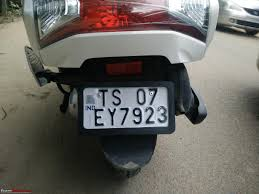doublelinenumberplate: (80, 83, 171, 132)
